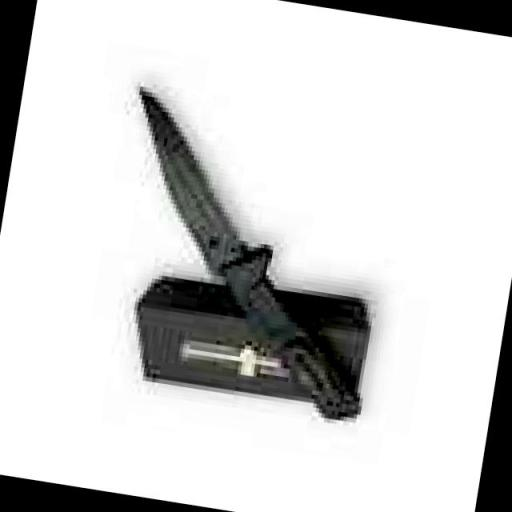knife: (26, 30, 448, 438)
